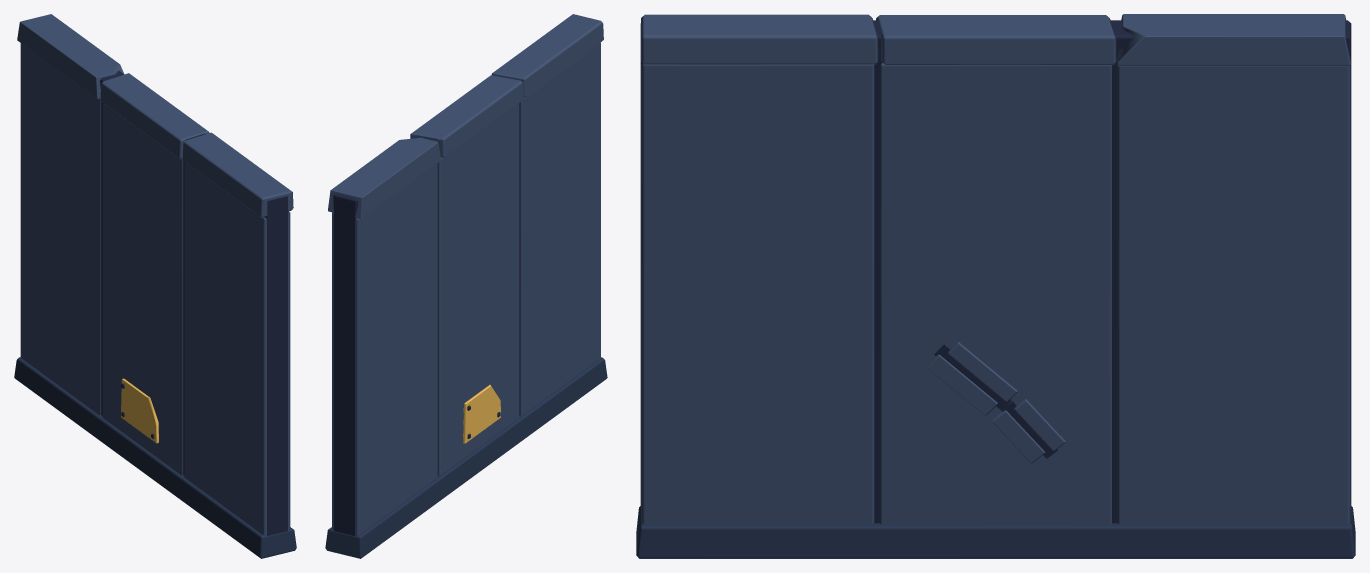
The model's file is wall_slate_34_420_520.glb.
3 renders of one model, left to right at view 1: azimuth 30°, elevation 25°; view 2: azimuth 150°, elevation 25°; view 3: azimuth 270°, elevation 25°, orthographic. The views are drawn at different scales.
Parts seen in each view (by area): view 1: wall_slate_34_420_520; view 2: wall_slate_34_420_520; view 3: wall_slate_34_420_520.
Part boxes in pixels (x1,y1,x2,y2): wall_slate_34_420_520: (14,14,296,558); wall_slate_34_420_520: (325,14,607,558); wall_slate_34_420_520: (636,14,1355,558).
Size of the model in its own units: 0.4582 by 4.2 by 5.24.
